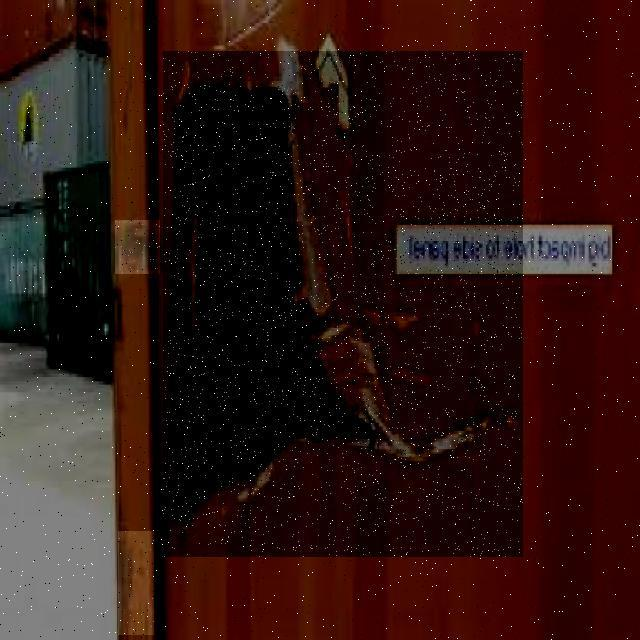Hole: (163, 51, 523, 557)
Rust: (118, 531, 154, 635), (115, 220, 160, 274)
